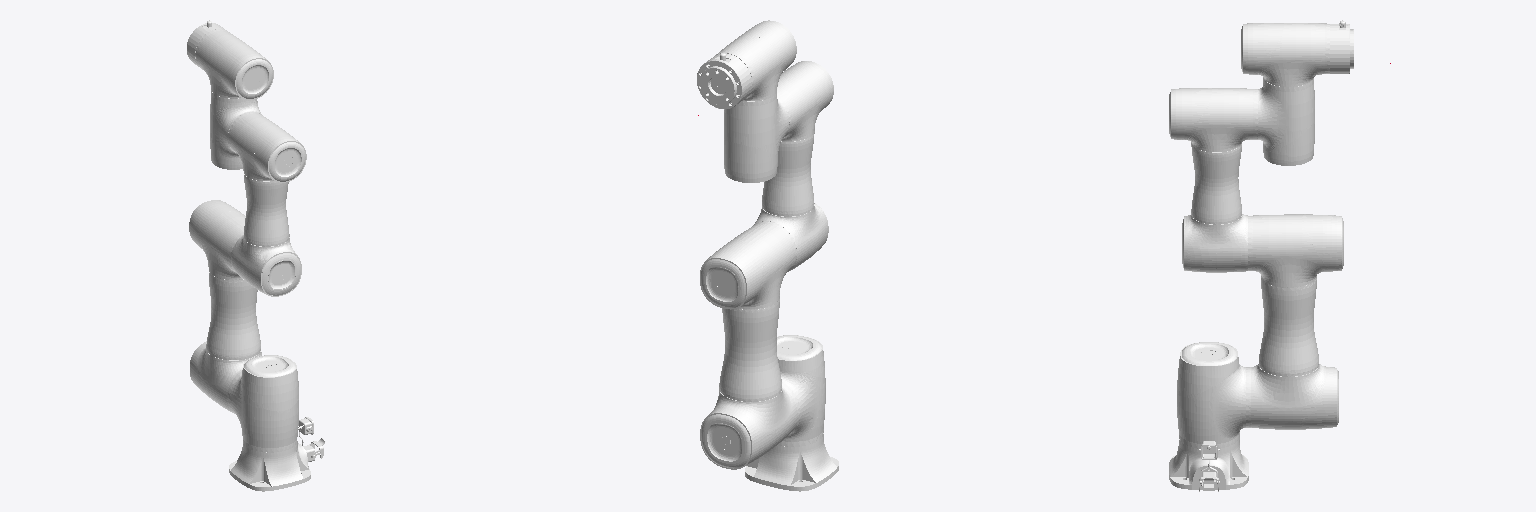
robot.urdf — cr3_robot:
<?xml version="1.0" ?>
<robot name="cr3_robot">
	<link name="world">
		<inertial>
			<origin rpy="0.00000 -0.00000 0.00000" xyz="0.00000 0.00000 0.00000"/>
			<mass value="0.00000"/>
			<inertia ixx="0.00000" ixy="0" ixz="0" iyy="0.00000" iyz="0" izz="0.00000"/>
		</inertial>
	</link>
	<link name="base_link">
		<inertial>
			<origin rpy="0.00000 -0.00000 0.00000" xyz="-0.00272 0.00000 0.02204"/>
			<mass value="0.65300"/>
			<inertia ixx="0.00150" ixy="0" ixz="0" iyy="0.00228" iyz="0" izz="0.00280"/>
		</inertial>
		<visual>
			<origin rpy="0.00000 -0.00000 0.00000" xyz="0.00000 0.00000 0.00000"/>
			<geometry>
				<mesh filename="../robot_arm_assets/cr3/meshes/base_link.STL" scale="1.00000 1.00000 1.00000"/>
			</geometry>
			<material name="mat_0">
				<color rgba="1.00000 1.00000 1.00000 1.00000" />
			</material>
		</visual>
		<collision>
			<origin rpy="0.00000 -0.00000 0.00000" xyz="0.00000 0.00000 0.00000"/>
			<geometry>
				<mesh filename="../robot_arm_assets/cr3/meshes/base_link.STL" scale="1.00000 1.00000 1.00000"/>
			</geometry>
		</collision>
	</link>
	<link name="Link1">
		<inertial>
			<origin rpy="0.00000 -0.00000 0.00000" xyz="-0.00004 -0.00395 0.00364"/>
			<mass value="1.31101"/>
			<inertia ixx="0.00417" ixy="0" ixz="0" iyy="0.00400" iyz="0" izz="0.00282"/>
		</inertial>
		<visual>
			<origin rpy="0.00000 -0.00000 0.00000" xyz="0.00000 0.00000 0.00000"/>
			<geometry>
				<mesh filename="../robot_arm_assets/cr3/meshes/Link1.STL" scale="1.00000 1.00000 1.00000"/>
			</geometry>
			<material name="mat_1">
				<color rgba="1.00000 1.00000 1.00000 1.00000" />
			</material>
		</visual>
		<collision>
			<origin rpy="0.00000 -0.00000 0.00000" xyz="0.00000 0.00000 0.00000"/>
			<geometry>
				<mesh filename="../robot_arm_assets/cr3/meshes/Link1.STL" scale="1.00000 1.00000 1.00000"/>
			</geometry>
		</collision>
	</link>
	<link name="Link2">
		<inertial>
			<origin rpy="0.00000 -0.00000 0.00000" xyz="-0.12924 0.00001 0.13317"/>
			<mass value="3.40044"/>
			<inertia ixx="0.01108" ixy="0" ixz="0" iyy="0.04822" iyz="0" izz="0.04400"/>
		</inertial>
		<visual>
			<origin rpy="0.00000 -0.00000 0.00000" xyz="0.00000 0.00000 0.00000"/>
			<geometry>
				<mesh filename="../robot_arm_assets/cr3/meshes/Link2.STL" scale="1.00000 1.00000 1.00000"/>
			</geometry>
			<material name="mat_2">
				<color rgba="1.00000 1.00000 1.00000 1.00000" />
			</material>
		</visual>
		<collision>
			<origin rpy="0.00000 -0.00000 0.00000" xyz="0.00000 0.00000 0.00000"/>
			<geometry>
				<mesh filename="../robot_arm_assets/cr3/meshes/Link2.STL" scale="1.00000 1.00000 1.00000"/>
			</geometry>
		</collision>
	</link>
	<link name="Link3">
		<inertial>
			<origin rpy="0.00000 -0.00000 0.00000" xyz="-0.11982 0.00000 0.00999"/>
			<mass value="2.21449"/>
			<inertia ixx="0.00597" ixy="0" ixz="0" iyy="0.02366" iyz="0" izz="0.02138"/>
		</inertial>
		<visual>
			<origin rpy="0.00000 -0.00000 0.00000" xyz="0.00000 0.00000 0.00000"/>
			<geometry>
				<mesh filename="../robot_arm_assets/cr3/meshes/Link3.STL" scale="1.00000 1.00000 1.00000"/>
			</geometry>
			<material name="mat_3">
				<color rgba="1.00000 1.00000 1.00000 1.00000" />
			</material>
		</visual>
		<collision>
			<origin rpy="0.00000 -0.00000 0.00000" xyz="0.00000 0.00000 0.00000"/>
			<geometry>
				<mesh filename="../robot_arm_assets/cr3/meshes/Link3.STL" scale="1.00000 1.00000 1.00000"/>
			</geometry>
		</collision>
	</link>
	<link name="Link4">
		<inertial>
			<origin rpy="0.00000 -0.00000 0.00000" xyz="0.00000 0.00345 -0.00287"/>
			<mass value="0.84227"/>
			<inertia ixx="0.00223" ixy="0" ixz="0" iyy="0.00124" iyz="0" izz="0.00215"/>
		</inertial>
		<visual>
			<origin rpy="0.00000 -0.00000 0.00000" xyz="0.00000 0.00000 0.00000"/>
			<geometry>
				<mesh filename="../robot_arm_assets/cr3/meshes/Link4.STL" scale="1.00000 1.00000 1.00000"/>
			</geometry>
			<material name="mat_4">
				<color rgba="1.00000 1.00000 1.00000 1.00000" />
			</material>
		</visual>
		<collision>
			<origin rpy="0.00000 -0.00000 0.00000" xyz="0.00000 0.00000 0.00000"/>
			<geometry>
				<mesh filename="../robot_arm_assets/cr3/meshes/Link4.STL" scale="1.00000 1.00000 1.00000"/>
			</geometry>
		</collision>
	</link>
	<link name="Link5">
		<inertial>
			<origin rpy="0.00000 -0.00000 0.00000" xyz="-0.00000 -0.00333 -0.00287"/>
			<mass value="0.84369"/>
			<inertia ixx="0.00224" ixy="0" ixz="0" iyy="0.00125" iyz="0" izz="0.00216"/>
		</inertial>
		<visual>
			<origin rpy="0.00000 -0.00000 0.00000" xyz="0.00000 0.00000 0.00000"/>
			<geometry>
				<mesh filename="../robot_arm_assets/cr3/meshes/Link5.STL" scale="1.00000 1.00000 1.00000"/>
			</geometry>
			<material name="mat_5">
				<color rgba="1.00000 1.00000 1.00000 1.00000" />
			</material>
		</visual>
		<collision>
			<origin rpy="0.00000 -0.00000 0.00000" xyz="0.00000 0.00000 0.00000"/>
			<geometry>
				<mesh filename="../robot_arm_assets/cr3/meshes/Link5.STL" scale="1.00000 1.00000 1.00000"/>
			</geometry>
		</collision>
	</link>
	<link name="Link6">
		<inertial>
			<origin rpy="0.00000 -0.00000 0.00000" xyz="-0.00000 0.00027 -0.02014"/>
			<mass value="0.15941"/>
			<inertia ixx="0.00015" ixy="0" ixz="0" iyy="0.00013" iyz="0" izz="0.00023"/>
		</inertial>
		<visual>
			<origin rpy="0.00000 -0.00000 0.00000" xyz="0.00000 0.00000 0.00000"/>
			<geometry>
				<mesh filename="../robot_arm_assets/cr3/meshes/Link6.STL" scale="1.00000 1.00000 1.00000"/>
			</geometry>
			<material name="mat_6">
				<color rgba="1.00000 1.00000 1.00000 1.00000" />
			</material>
		</visual>
		<collision>
			<origin rpy="0.00000 -0.00000 0.00000" xyz="0.00000 0.00000 0.00000"/>
			<geometry>
				<mesh filename="../robot_arm_assets/cr3/meshes/Link6.STL" scale="1.00000 1.00000 1.00000"/>
			</geometry>
		</collision>
	</link>
	<link name="ee_link">
		<inertial>
			<origin rpy="-3.14000 -0.00000 1.57000" xyz="0.00000 0.00000 0.00000"/>
			<mass value="0.00000"/>
			<inertia ixx="0.00000" ixy="0" ixz="0" iyy="0.00000" iyz="0" izz="0.00000"/>
		</inertial>
		<visual>
			<origin rpy="0.00000 -0.00000 0.00000" xyz="0.00000 0.00000 0.00000"/>
			<geometry>
				<sphere radius="0.00100"/>
			</geometry>
			<material name="mat_7">
				<color rgba="1.00000 1.00000 1.00000 1.00000" />
			</material>
		</visual>
		<collision>
			<origin rpy="0.00000 -0.00000 0.00000" xyz="0.00000 0.00000 0.00000"/>
			<geometry>
				<sphere radius="0.00100"/>
			</geometry>
		</collision>
	</link>
	<link name="digitac_body_link">
		<inertial>
			<origin rpy="0.00000 -0.00000 0.00000" xyz="0.00445 -0.01376 -0.00000"/>
			<mass value="0.00792"/>
			<inertia ixx="0.00000" ixy="0" ixz="0" iyy="0.00000" iyz="0" izz="0.00000"/>
		</inertial>
		<visual>
			<origin rpy="0.00000 -0.00000 0.00000" xyz="0.00000 0.00000 0.02000"/>
			<geometry>
				<mesh filename="../sensor_assets/right_angle_digitac/../standard_digitac/body/digitac_body.stl" scale="1.00000 1.00000 1.00000"/>
			</geometry>
			<material name="mat_8">
				<color rgba="0.80000 0.80000 0.80000 1.00000" />
			</material>
		</visual>
		<collision>
			<origin rpy="0.00000 -0.00000 0.00000" xyz="0.00000 0.00000 0.02000"/>
			<geometry>
				<mesh filename="../sensor_assets/right_angle_digitac/../standard_digitac/body/digitac_body.stl" scale="1.00000 1.00000 1.00000"/>
			</geometry>
		</collision>
	</link>
	<link name="digitac_tip_link">
		<inertial>
			<origin rpy="0.00000 -0.00000 0.00000" xyz="0.00002 -0.00418 -0.00513"/>
			<mass value="0.00021"/>
			<inertia ixx="0.00000" ixy="0" ixz="0" iyy="0.00000" iyz="0" izz="0.00000"/>
		</inertial>
		<visual>
			<origin rpy="0.00000 -0.00000 0.00000" xyz="0.00000 0.00000 -0.02000"/>
			<geometry>
				<mesh filename="../sensor_assets/right_angle_digitac/../standard_digitac/tip/digitac_skin.stl" scale="1.00000 1.00000 1.00000"/>
			</geometry>
			<material name="mat_9">
				<color rgba="0.00000 0.00000 0.00000 1.00000" />
			</material>
		</visual>
		<collision>
			<origin rpy="0.00000 -0.00000 0.00000" xyz="0.00000 0.00000 -0.02000"/>
			<geometry>
				<mesh filename="../sensor_assets/right_angle_digitac/../standard_digitac/tip/digitac_skin.stl" scale="1.00000 1.00000 1.00000"/>
			</geometry>
		</collision>
	</link>
	<link name="tcp_link">
		<inertial>
			<origin rpy="0.00000 -0.00000 1.57000" xyz="0.00000 0.00000 0.00000"/>
			<mass value="0.00000"/>
			<inertia ixx="0.00000" ixy="0" ixz="0" iyy="0.00000" iyz="0" izz="0.00000"/>
		</inertial>
		<visual>
			<origin rpy="0.00000 -0.00000 0.00000" xyz="0.00000 0.00000 0.00000"/>
			<geometry>
				<sphere radius="0.00100"/>
			</geometry>
			<material name="mat_10">
				<color rgba="0.90000 0.00000 0.20000 0.50000" />
			</material>
		</visual>
	</link>
	<joint name="world_joint" type="fixed">
		<parent link="world"/>
		<child link="base_link"/>
		<dynamics damping="1.0" friction="0.0001"/>
		<origin rpy="0.00000 -0.00000 -3.14000" xyz="0.00000 0.00000 0.00000"/>
		<axis xyz="0.00000 0.00000 0.00000"/>
	</joint>
	<joint name="joint1" type="revolute">
		<parent link="base_link"/>
		<child link="Link1"/>
		<limit effort="0.00000" lower="-3.14000" upper="3.14000" velocity="0.00000"/>
		<dynamics damping="1.0" friction="0.0001"/>
		<origin rpy="0.00000 -0.00000 0.00000" xyz="0.00000 0.00000 0.12830"/>
		<axis xyz="0.00000 0.00000 1.00000"/>
	</joint>
	<joint name="joint2" type="revolute">
		<parent link="Link1"/>
		<child link="Link2"/>
		<limit effort="0.00000" lower="-3.14000" upper="3.14000" velocity="0.00000"/>
		<dynamics damping="1.0" friction="0.0001"/>
		<origin rpy="0.00000 1.57080 4.71239" xyz="0.00000 0.00000 0.00000"/>
		<axis xyz="0.00000 0.00000 1.00000"/>
	</joint>
	<joint name="joint3" type="revolute">
		<parent link="Link2"/>
		<child link="Link3"/>
		<limit effort="0.00000" lower="-2.86000" upper="2.86000" velocity="0.00000"/>
		<dynamics damping="1.0" friction="0.0001"/>
		<origin rpy="0.00000 -0.00000 0.00000" xyz="-0.27400 0.00000 0.00000"/>
		<axis xyz="0.00000 0.00000 1.00000"/>
	</joint>
	<joint name="joint4" type="revolute">
		<parent link="Link3"/>
		<child link="Link4"/>
		<limit effort="0.00000" lower="-3.14000" upper="3.14000" velocity="0.00000"/>
		<dynamics damping="1.0" friction="0.0001"/>
		<origin rpy="0.00000 0.00000 -1.57080" xyz="-0.23000 0.00000 0.12830"/>
		<axis xyz="0.00000 0.00000 1.00000"/>
	</joint>
	<joint name="joint5" type="revolute">
		<parent link="Link4"/>
		<child link="Link5"/>
		<limit effort="0.00000" lower="-3.14000" upper="3.14000" velocity="0.00000"/>
		<dynamics damping="1.0" friction="0.0001"/>
		<origin rpy="1.57080 -0.00000 0.00000" xyz="0.00000 -0.11600 0.00000"/>
		<axis xyz="0.00000 0.00000 1.00000"/>
	</joint>
	<joint name="joint6" type="revolute">
		<parent link="Link5"/>
		<child link="Link6"/>
		<limit effort="0.00000" lower="-6.28000" upper="6.28000" velocity="0.00000"/>
		<dynamics damping="1.0" friction="0.0001"/>
		<origin rpy="-1.57080 0.00000 0.00000" xyz="0.00000 0.10500 0.00000"/>
		<axis xyz="0.00000 0.00000 1.00000"/>
	</joint>
	<joint name="ee_joint" type="fixed">
		<parent link="Link6"/>
		<child link="ee_link"/>
		<dynamics damping="1.0" friction="0.0001"/>
		<origin rpy="3.14000 -0.00000 -0.00000" xyz="0.00000 0.00000 0.00000"/>
		<axis xyz="0.00000 0.00000 0.00000"/>
	</joint>
	<joint name="joint_dummy1" type="fixed">
		<parent link="ee_link"/>
		<child link="digitac_body_link"/>
		<dynamics damping="1.0" friction="0.0001"/>
		<origin rpy="-1.57080 -1.57080 3.14159" xyz="0.00000 0.00500 -0.06000"/>
		<axis xyz="0.00000 0.00000 1.00000"/>
	</joint>
	<joint name="digitac_tip_to_body" type="fixed">
		<parent link="digitac_body_link"/>
		<child link="digitac_tip_link"/>
		<dynamics damping="1.0" friction="0.0001"/>
		<origin rpy="3.14159 -0.00000 -1.57080" xyz="0.00000 0.00000 0.00000"/>
		<axis xyz="0.00000 0.00000 0.00000"/>
	</joint>
	<joint name="tcp_joint" type="fixed">
		<parent link="digitac_body_link"/>
		<child link="tcp_link"/>
		<dynamics damping="1.0" friction="0.0001"/>
		<origin rpy="1.57000 -0.00000 -1.57000" xyz="0.00070 0.00000 0.03100"/>
		<axis xyz="0.00000 0.00000 0.00000"/>
	</joint>
</robot>

--- Render facts (derived) ---
The picture shows the robot from 3 angles, left to right: view 1: azimuth 30°, elevation 25°; view 2: azimuth 150°, elevation 25°; view 3: azimuth 270°, elevation 25°; orthographic projection.
Robot: cr3_robot — 12 links, 11 joints (6 revolute, 5 fixed); root link world; default pose: all joints at 0.
Visible links, largest first — view 1: Link3, Link2, Link1, Link5, base_link, Link4; view 2: Link2, Link3, Link4, Link1, Link5, base_link, Link6; view 3: Link2, Link3, Link1, Link5, Link4, base_link, Link6.
Boxes of the visible links, x1=… form: Link3: x1=228, y1=112, x2=306, y2=296; Link2: x1=189, y1=200, x2=261, y2=413; Link1: x1=230, y1=355, x2=298, y2=452; Link5: x1=195, y1=29, x2=273, y2=99; base_link: x1=229, y1=417, x2=325, y2=491; Link4: x1=210, y1=91, x2=261, y2=169; Link2: x1=700, y1=221, x2=799, y2=469; Link3: x1=753, y1=61, x2=833, y2=270; Link4: x1=724, y1=93, x2=789, y2=182; Link1: x1=777, y1=335, x2=825, y2=446; Link5: x1=716, y1=20, x2=796, y2=100; base_link: x1=745, y1=433, x2=838, y2=491; Link6: x1=697, y1=53, x2=751, y2=109; Link2: x1=1246, y1=214, x2=1343, y2=429; Link3: x1=1169, y1=88, x2=1257, y2=272; Link1: x1=1177, y1=342, x2=1245, y2=448; Link5: x1=1241, y1=23, x2=1329, y2=86; Link4: x1=1258, y1=78, x2=1314, y2=165; base_link: x1=1169, y1=437, x2=1248, y2=491; Link6: x1=1330, y1=20, x2=1353, y2=73.
Size in the robot's own frame: 0.1753 by 0.3586 by 0.8041 metres.
7 mesh visuals loaded from 9 distinct referenced files (7 binary STL); not drawn: 2 (reference not matched to a file when rendering).